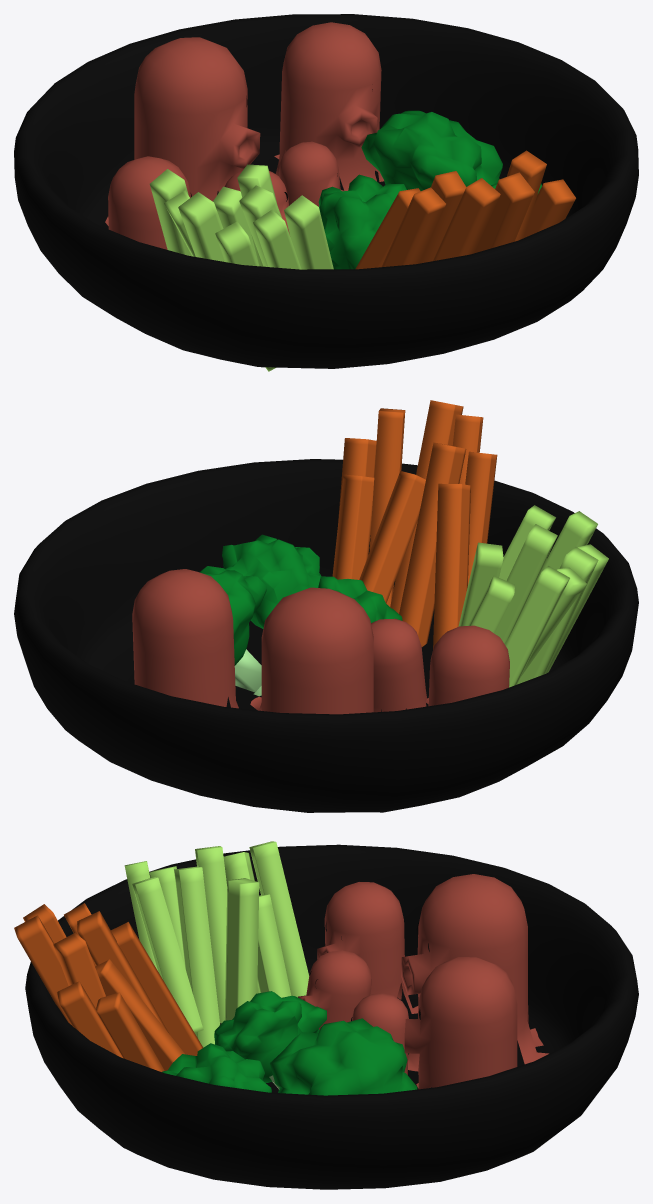
The model's file is platillopulpitos.fbx.
3 views of the same model, one above another, from view 1: azimuth 30°, elevation 25°; view 2: azimuth 150°, elevation 25°; view 3: azimuth 270°, elevation 25° (orthographic). The views are drawn at different scales.
Parts seen in each view (by area): view 1: platillopulpitos; view 2: platillopulpitos; view 3: platillopulpitos.
Boxes of the visible parts, x1,y1,x2,y2 form: platillopulpitos: (14, 14, 638, 371); platillopulpitos: (14, 400, 638, 812); platillopulpitos: (14, 841, 638, 1189).
Bounding box in the file's own units: 75.06 × 28.24 × 76.43.
